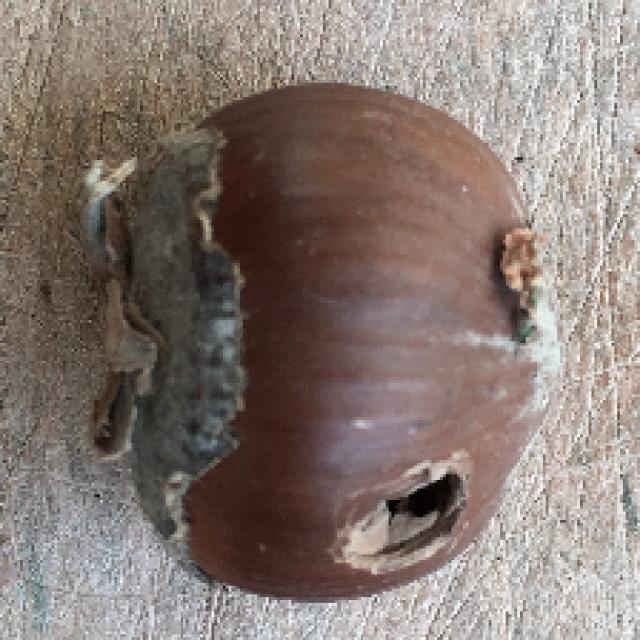damagedHazelnut: (92, 73, 563, 615)
